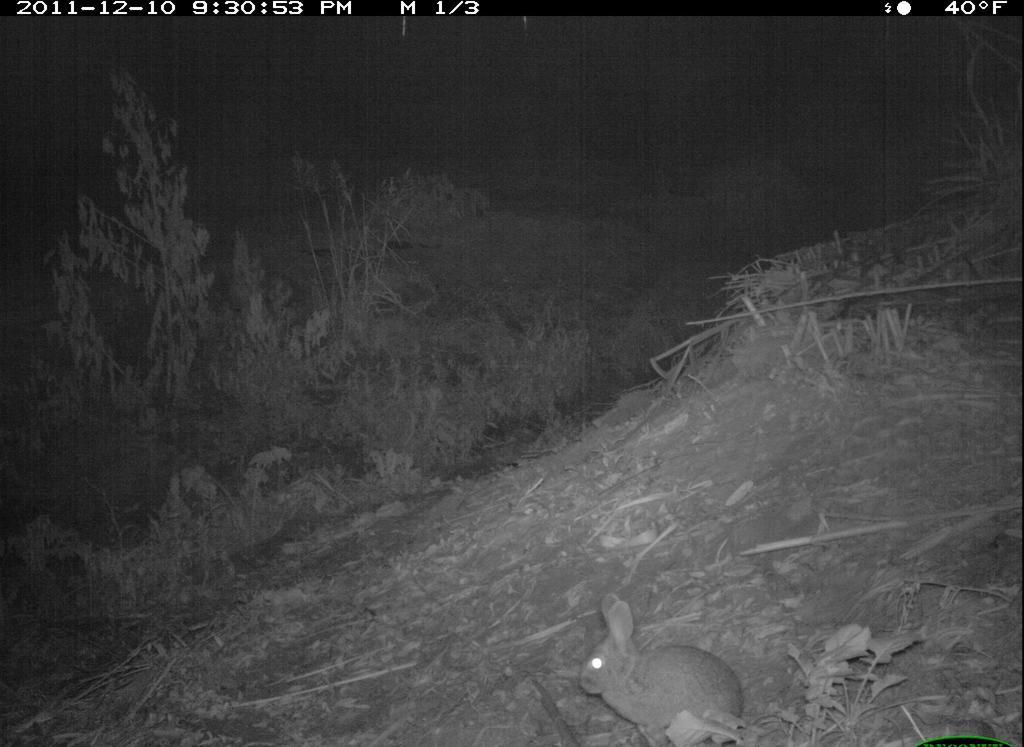rabbit: (573, 591, 747, 747)
